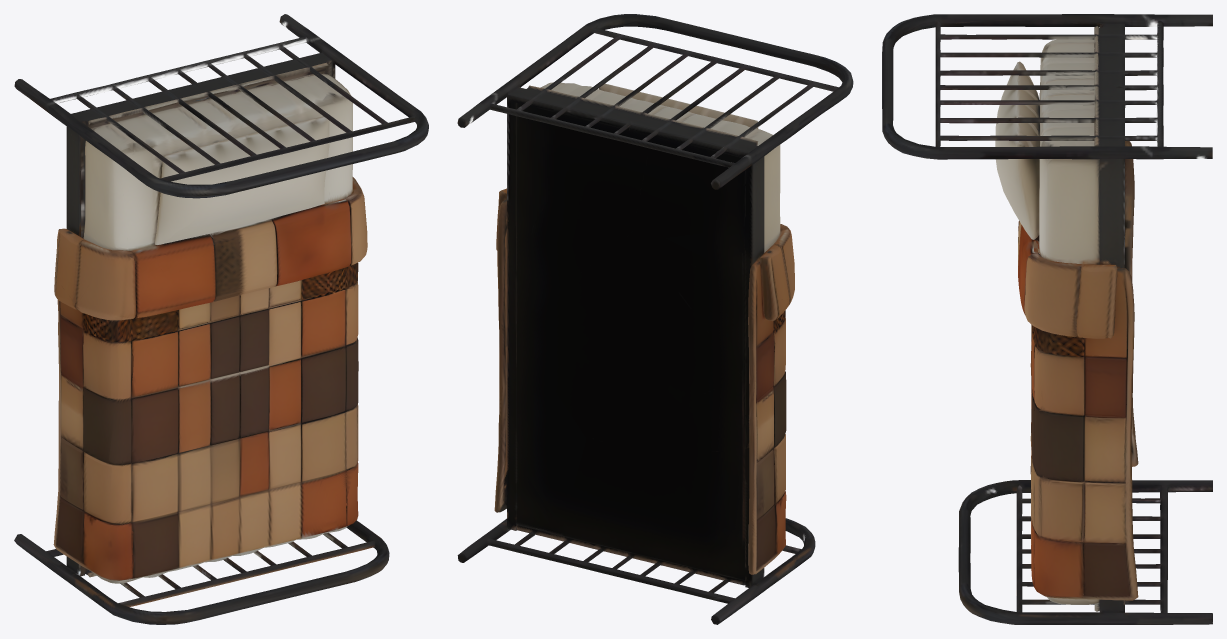
The model's file is Cama.fbx.
3 views of the same model, side by side, from view 1: azimuth 30°, elevation 25°; view 2: azimuth 150°, elevation 25°; view 3: azimuth 270°, elevation 25° (orthographic). The views are drawn at different scales.
Parts seen in each view (by area): view 1: Cama; view 2: Cama; view 3: Cama.
Part boxes in pixels (<box>): Cama: <box>14,14,428,624</box>; Cama: <box>457,14,853,624</box>; Cama: <box>882,14,1212,624</box>.
Bounding box in the file's own units: 121 × 183 × 115.
